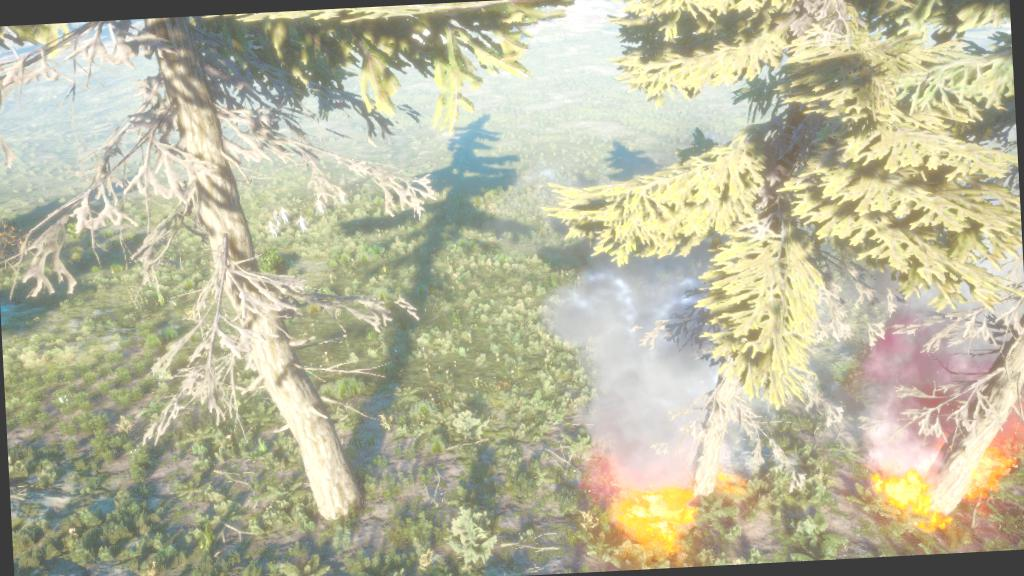Fire: (534, 235, 768, 496), (833, 396, 1023, 542), (576, 432, 766, 566)
human: (262, 220, 282, 241), (294, 214, 311, 234), (334, 188, 350, 207), (276, 206, 292, 225), (312, 198, 327, 218), (270, 208, 284, 228)
